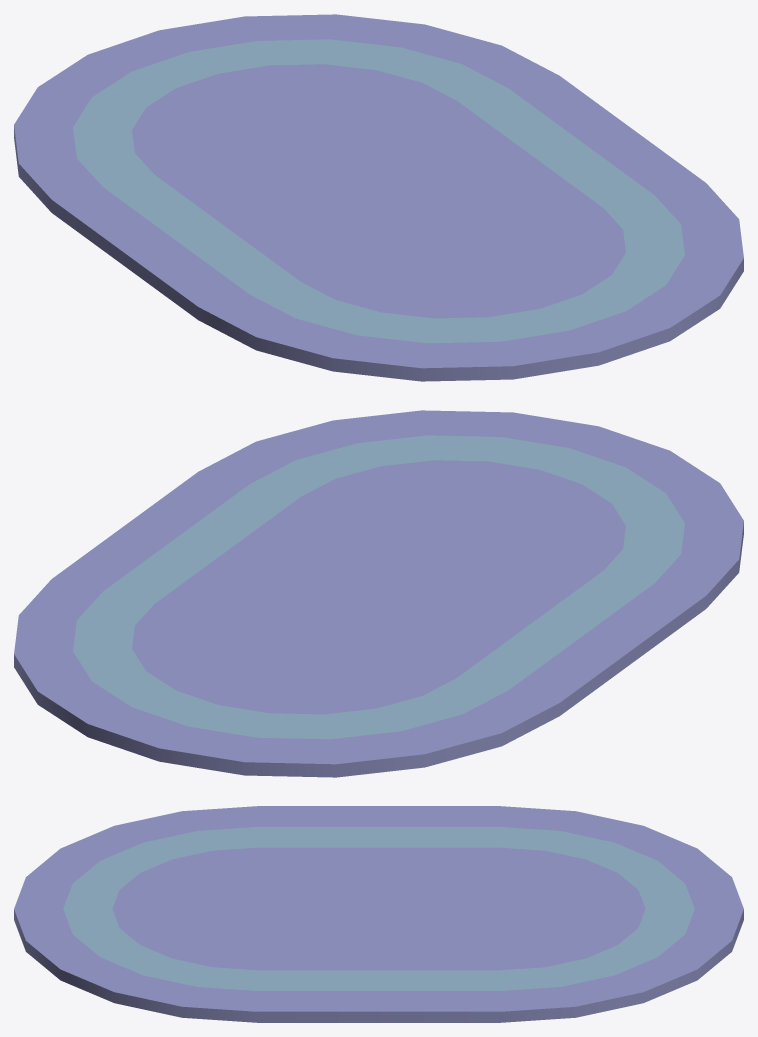
Rendered from carpet-rounded-small.glb.
3 renders of one model, top to bottom at view 1: azimuth 30°, elevation 25°; view 2: azimuth 150°, elevation 25°; view 3: azimuth 270°, elevation 25°, orthographic. The views are drawn at different scales.
Parts seen in each view (by area): view 1: carpet-rounded-small; view 2: carpet-rounded-small; view 3: carpet-rounded-small.
Part boxes in pixels (<box>): carpet-rounded-small: <box>14,14,743,381</box>; carpet-rounded-small: <box>14,410,743,777</box>; carpet-rounded-small: <box>14,806,743,1022</box>.
Size of the model in its own units: 1 by 0.025 by 1.5.
